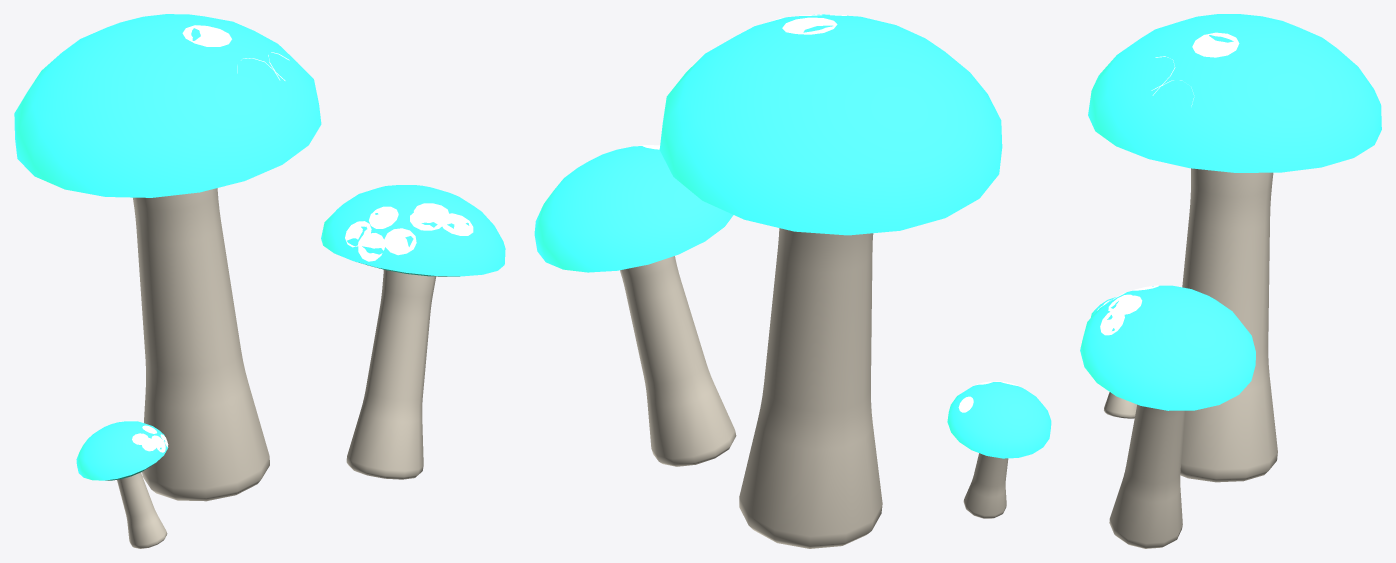
Rendered from glow_mushroom_big.glb.
3 views of the same model, side by side, from view 1: azimuth 30°, elevation 25°; view 2: azimuth 150°, elevation 25°; view 3: azimuth 270°, elevation 25° (orthographic). The views are drawn at different scales.
Visible parts, largest first — view 1: glow_mushroom_big; view 2: glow_mushroom_big; view 3: glow_mushroom_big.
Boxes of the visible parts, x1,y1,x2,y2 form: glow_mushroom_big: (14,14,505,548); glow_mushroom_big: (534,14,1051,548); glow_mushroom_big: (1080,14,1381,548).
Size of the model in its own units: 4 by 4.02 by 2.56.
